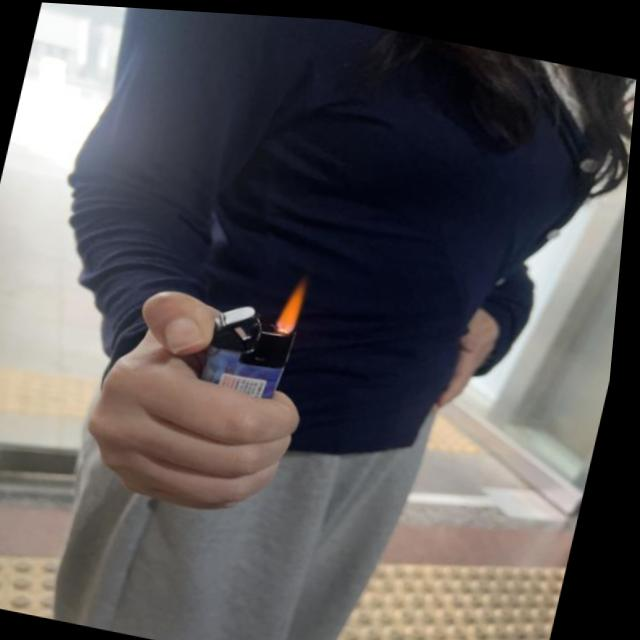Fire: (279, 274, 313, 327)
